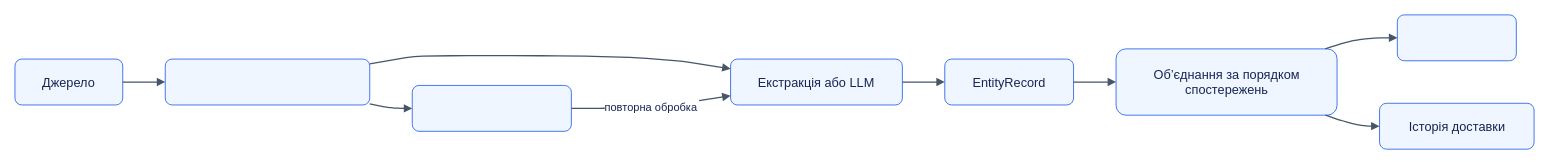
This 1550x164 diagram has some shape labels left out. Each missing label, with the centre of its shape:
"EntityState" belongs at pixel 1456 37.
"Material: RAW і метадані" belongs at pixel 267 81.
"Збережений RAW" belongs at pixel 491 108.
